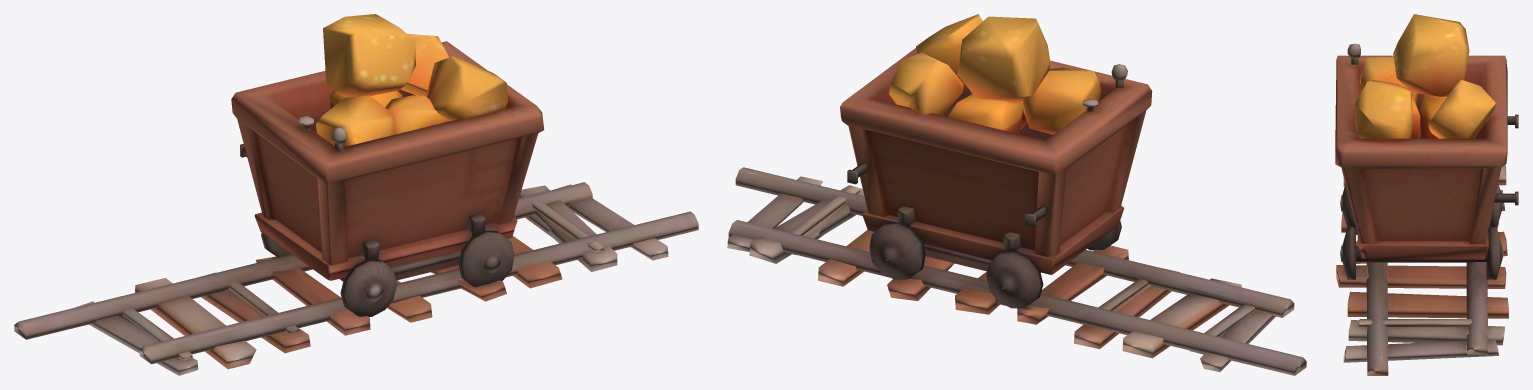
Rendered from minecart.glb.
3 renders of one model, left to right at view 1: azimuth 30°, elevation 25°; view 2: azimuth 150°, elevation 25°; view 3: azimuth 270°, elevation 25°, orthographic. The views are drawn at different scales.
Parts seen in each view (by area): view 1: tripo_node_1e1038ce-f79d-416d-9e28-a59a72c4bbca; view 2: tripo_node_1e1038ce-f79d-416d-9e28-a59a72c4bbca; view 3: tripo_node_1e1038ce-f79d-416d-9e28-a59a72c4bbca.
Part boxes in pixels (<box>): tripo_node_1e1038ce-f79d-416d-9e28-a59a72c4bbca: <box>14,14,698,375</box>; tripo_node_1e1038ce-f79d-416d-9e28-a59a72c4bbca: <box>727,14,1306,375</box>; tripo_node_1e1038ce-f79d-416d-9e28-a59a72c4bbca: <box>1335,14,1518,375</box>.
Size of the model in its own units: 0.998 by 0.4121 by 0.291.
Materials: 1 (1 with a texture image).
